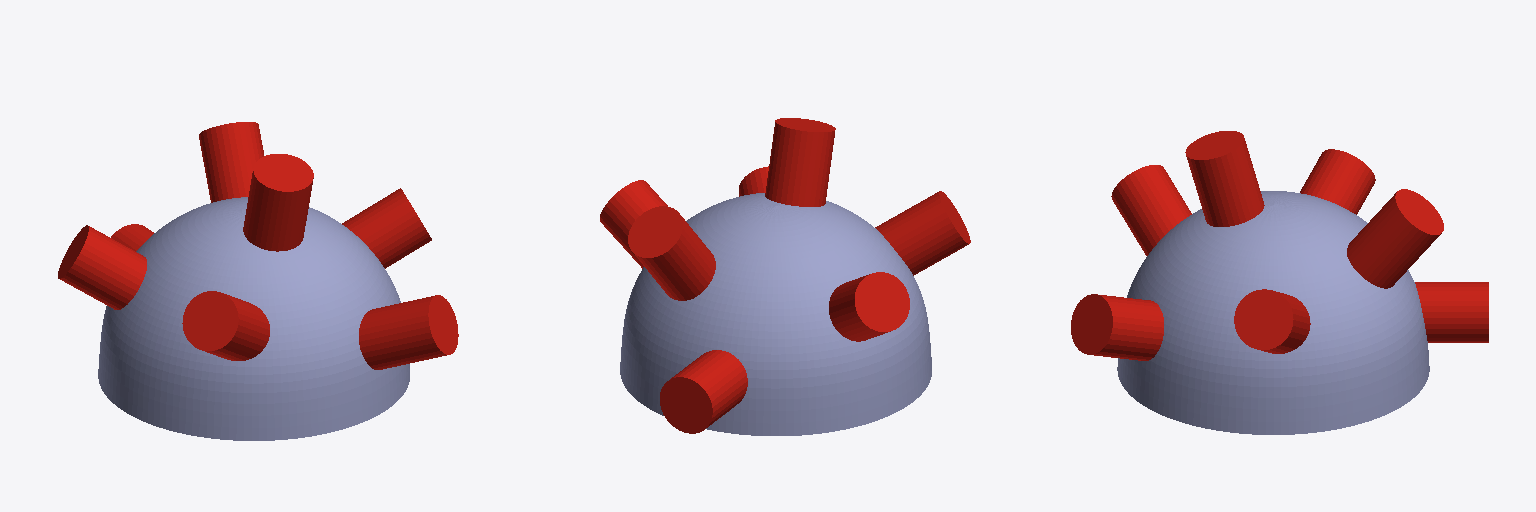
Rendered from helm.obj.
3 views of the same model, side by side, from view 1: azimuth 30°, elevation 25°; view 2: azimuth 150°, elevation 25°; view 3: azimuth 270°, elevation 25° (orthographic).
Visible parts, largest first — view 1: Sphere, Cylinder.005, Cylinder, Cylinder.003, Cylinder.004, Cylinder.001, Cylinder.002, Cylinder.006; view 2: Sphere, Cylinder.001, Cylinder, Cylinder.006, Cylinder.004, Cylinder.003, Cylinder.002, Cylinder.005; view 3: Sphere, Cylinder.001, Cylinder, Cylinder.005, Cylinder.004, Cylinder.006, Cylinder.002, Cylinder.003.
Boxes of the visible parts, box(x1,y1,x2,y2) form: Sphere: box(98, 197, 409, 440); Cylinder.005: box(359, 295, 458, 369); Cylinder: box(243, 154, 313, 251); Cylinder.003: box(58, 225, 146, 309); Cylinder.004: box(182, 291, 269, 360); Cylinder.001: box(199, 122, 263, 202); Cylinder.002: box(342, 188, 431, 268); Cylinder.006: box(111, 224, 153, 251); Sphere: box(620, 193, 931, 435); Cylinder.001: box(628, 206, 715, 300); Cylinder: box(765, 118, 835, 206); Cylinder.006: box(660, 350, 747, 433); Cylinder.004: box(875, 191, 970, 275); Cylinder.003: box(829, 272, 909, 341); Cylinder.002: box(600, 180, 667, 268); Cylinder.005: box(739, 166, 768, 196); Sphere: box(1117, 191, 1429, 434); Cylinder.001: box(1347, 189, 1443, 288); Cylinder: box(1185, 131, 1264, 226); Cylinder.005: box(1071, 294, 1163, 360); Cylinder.004: box(1111, 165, 1191, 255); Cylinder.006: box(1415, 282, 1488, 342); Cylinder.002: box(1234, 289, 1310, 353); Cylinder.003: box(1300, 149, 1375, 214).
Size of the model in its own units: 2.45 by 1.62 by 2.66.